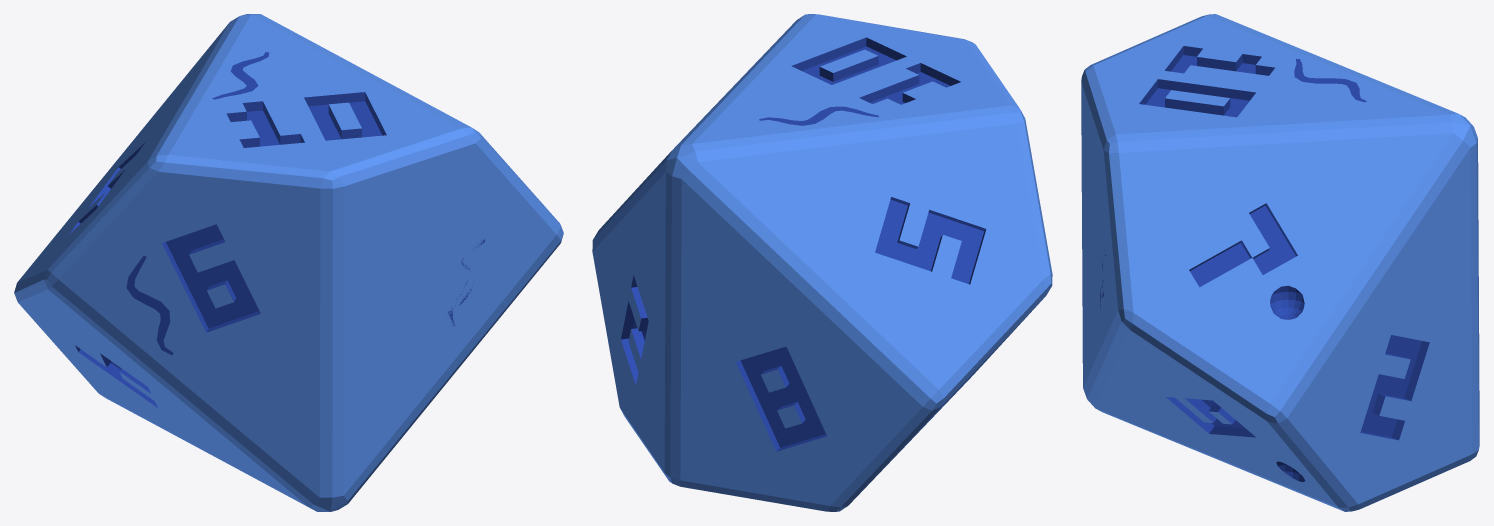
Rendered from Die_BlueCheese_d10.fbx.
3 renders of one model, left to right at view 1: azimuth 30°, elevation 25°; view 2: azimuth 150°, elevation 25°; view 3: azimuth 270°, elevation 25°, orthographic. The views are drawn at different scales.
Parts seen in each view (by area): view 1: Die_BlueCheese_d10; view 2: Die_BlueCheese_d10; view 3: Die_BlueCheese_d10.
Boxes of the visible parts, <box> form: Die_BlueCheese_d10: <box>14,14,563,511</box>; Die_BlueCheese_d10: <box>592,14,1052,511</box>; Die_BlueCheese_d10: <box>1081,14,1479,511</box>.
Bounding box in the file's own units: 1.62 × 1.13 × 1.19.
